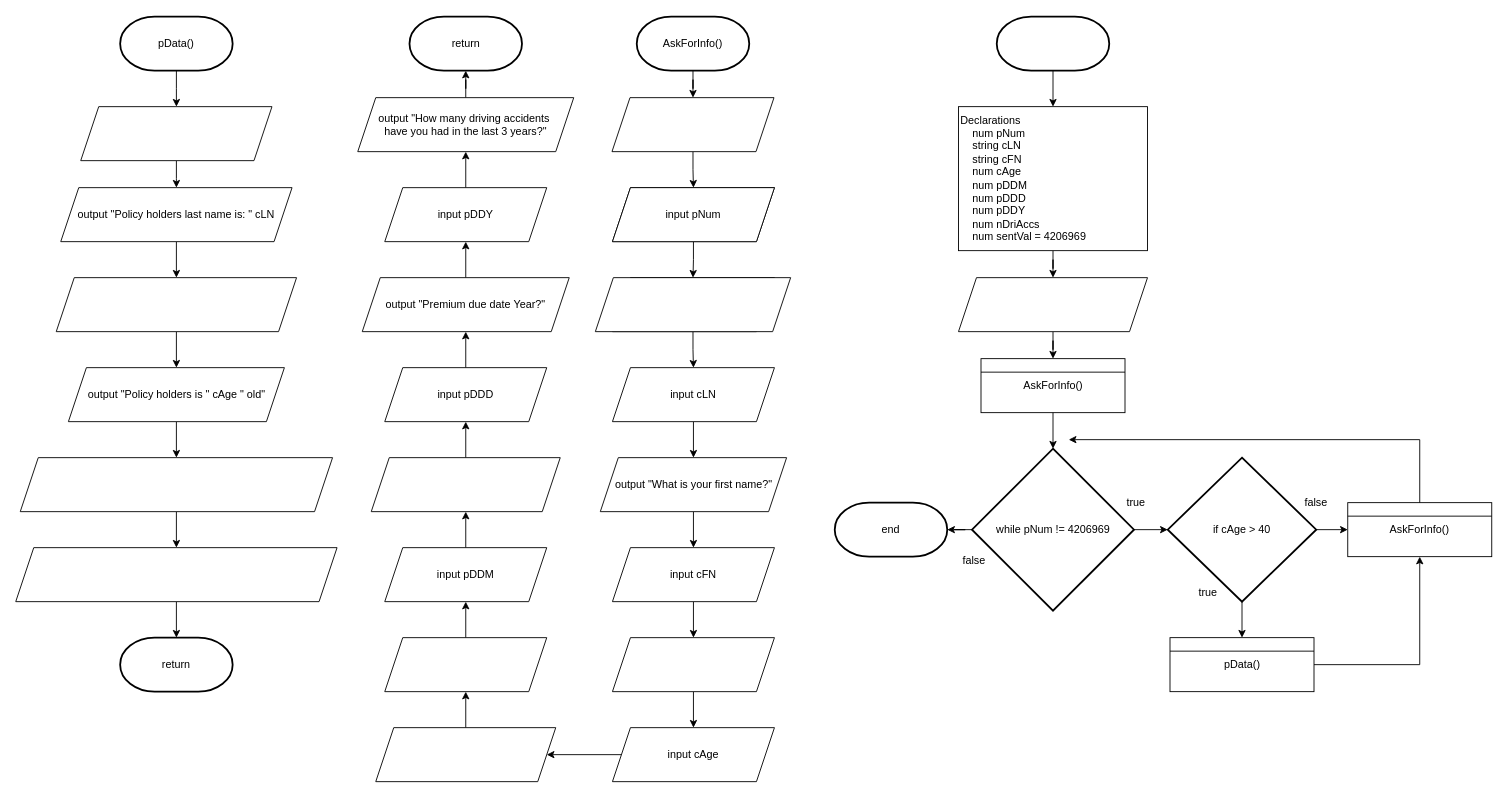
This 1508x797 diagram has some shape labels left out. Each missing label, with the centre of its shape:
output "Format month as its number(January = 1: (x=465, y=754)
output "Policy Due Date is: " pDDM " ," pDDD " ," pDDY: (x=176, y=484)
output "Policy holders first name is: " cFN: (x=176, y=304)
output "Policy holders has been in " nDriAccs " accidents": (x=176, y=574)
output "Policy number is: " pNum: (x=176, y=133)
output "Premium due date Day?": (x=465, y=484)
output "Premium due date Month?": (x=465, y=664)
output "To end enter 4206969 in the policy number section": (x=1053, y=304)
output "What is your age?": (x=693, y=664)
output "What is your last name?": (x=692, y=304)
output "What is your policy number?": (x=692, y=124)
start: (x=1052, y=43)
